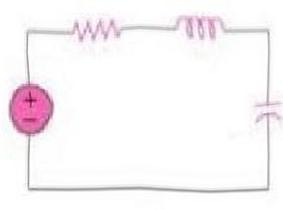Battery: (2, 80, 63, 137)
